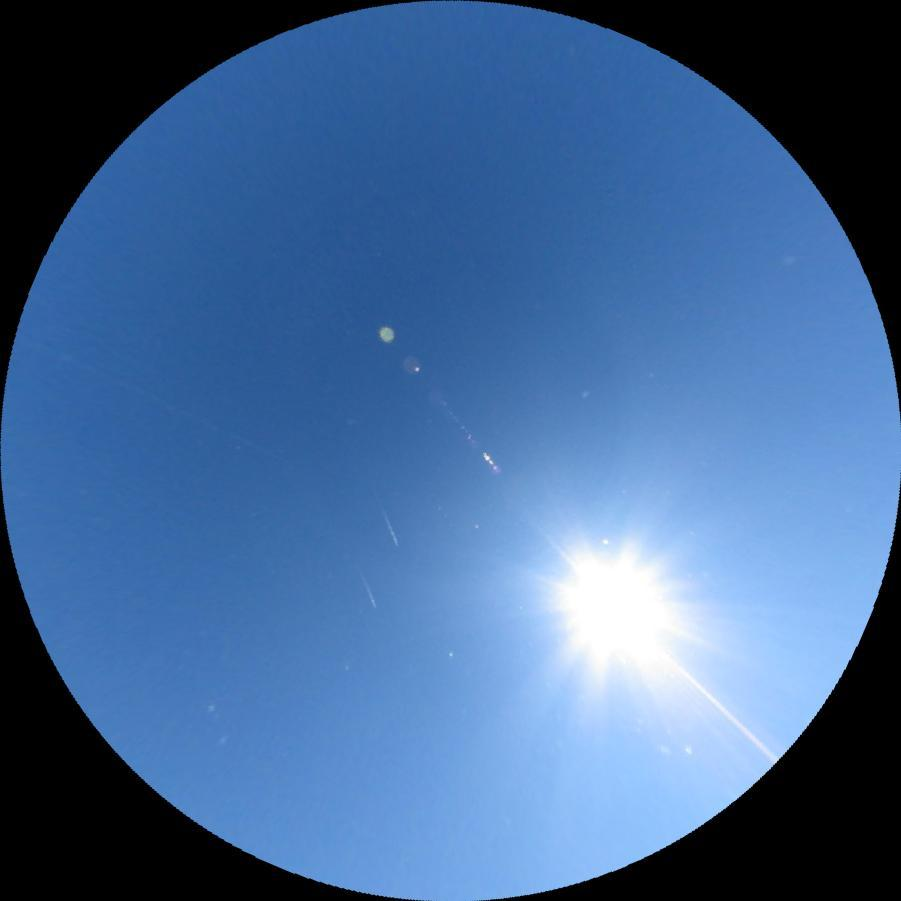contrail young: (369, 491, 401, 547), (355, 556, 377, 608)
parasite: (653, 643, 780, 763)
sun: (559, 546, 672, 670)
